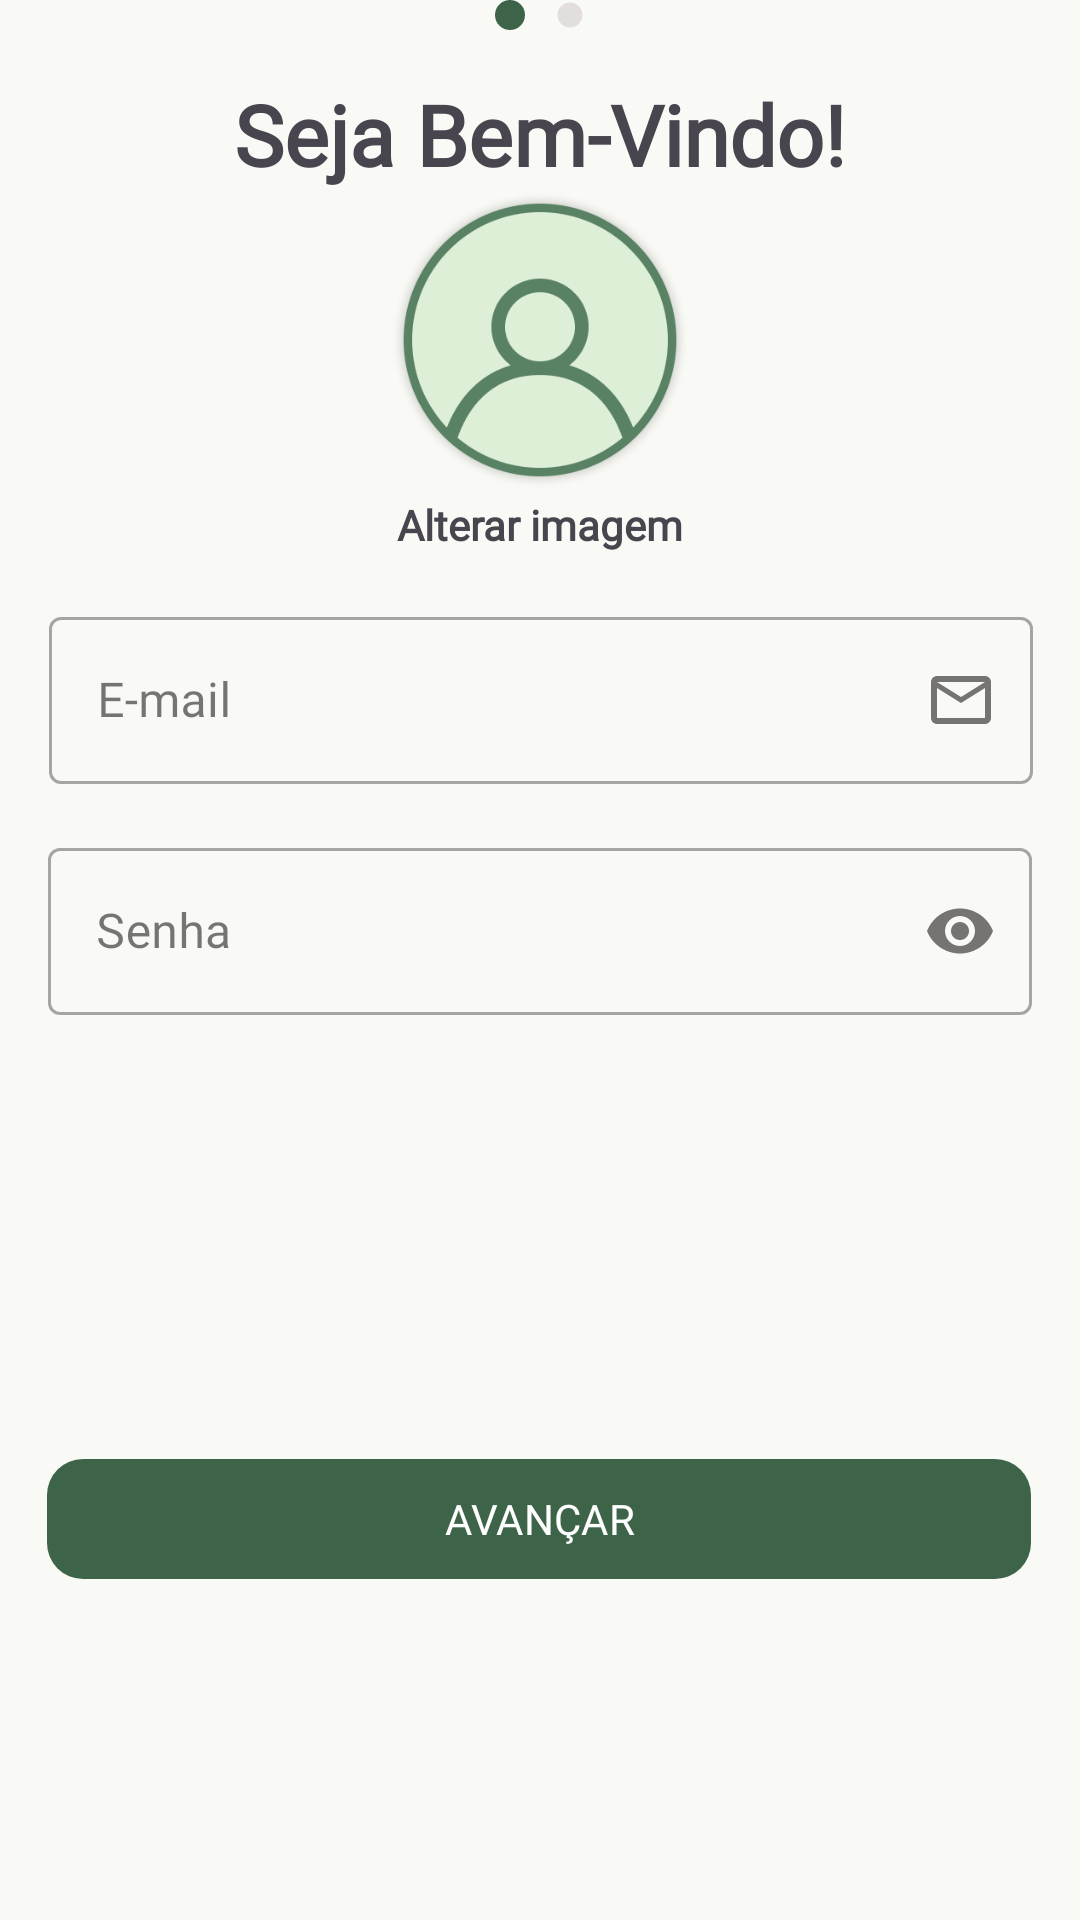

Named icons in this screenshot (1080 × 1920) and their centers, [x,y]:
photo: [540,340]
